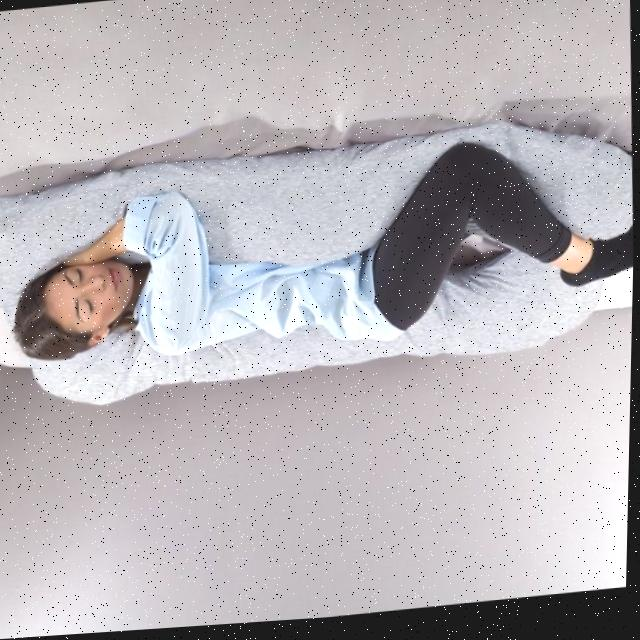sleeping-person: (4, 82, 638, 398)
